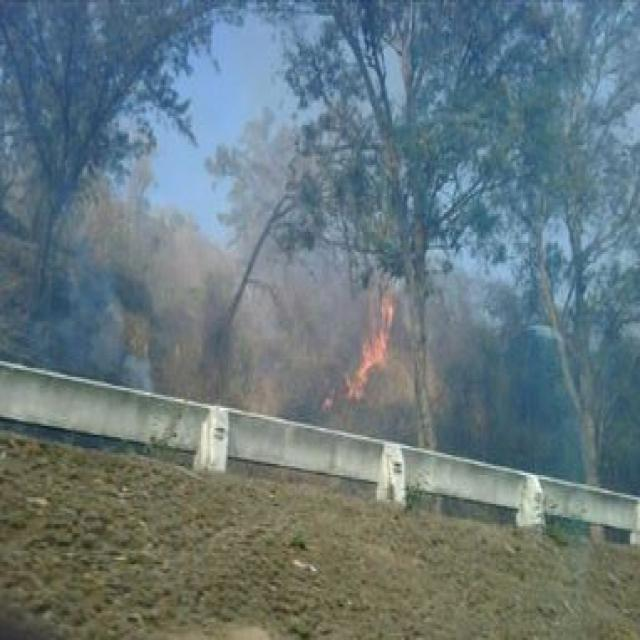Fire: (346, 274, 398, 418)
Smoke: (54, 236, 158, 402)
